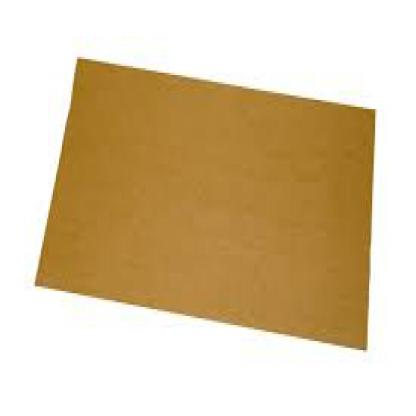CARDBOARD: (33, 57, 374, 350)
